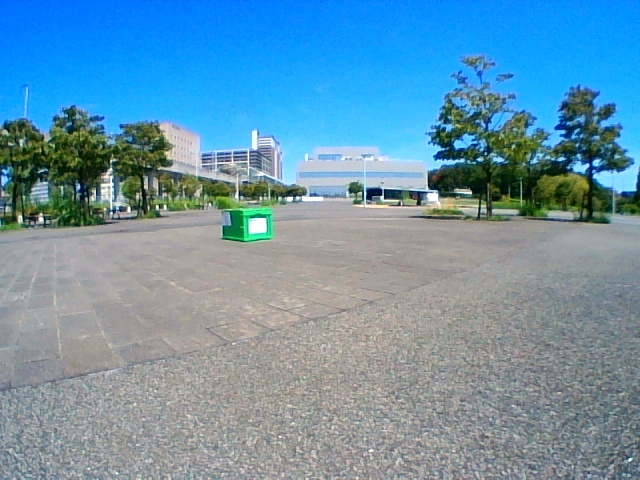green_box: (222, 208, 270, 240)
tag: (223, 213, 231, 224)
